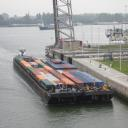tugboat: (15, 46, 34, 71)
